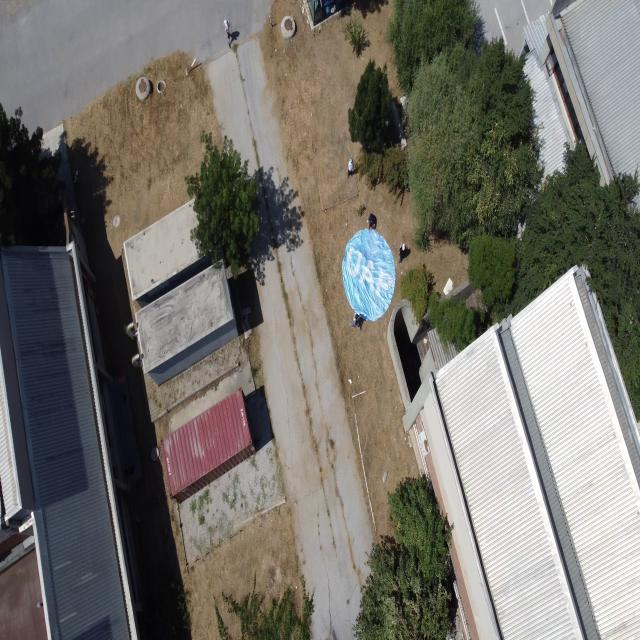vehicle: (342, 228, 396, 322), (223, 18, 230, 48), (366, 214, 376, 231), (346, 158, 354, 178), (398, 242, 405, 264), (350, 313, 360, 328)
